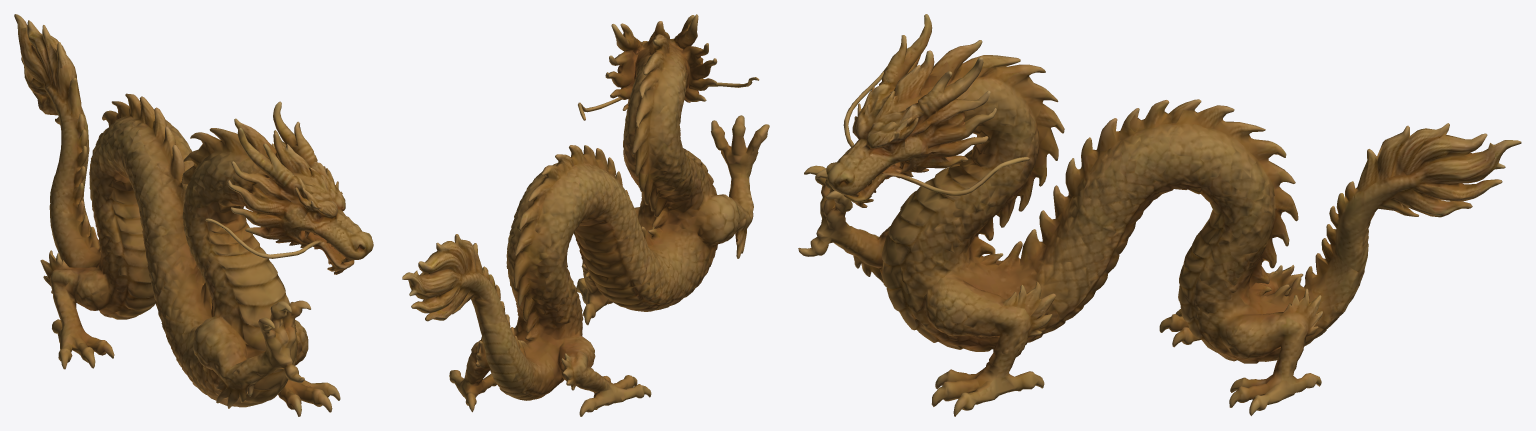
The model's file is dragon.glb.
The picture shows the model from 3 angles, left to right: view 1: azimuth 30°, elevation 25°; view 2: azimuth 150°, elevation 25°; view 3: azimuth 270°, elevation 25°; orthographic projection. The views are drawn at different scales.
Visible parts, largest first — view 1: tripo_node_55a487ac-386f-4654-98ce-5c9de5eefe46; view 2: tripo_node_55a487ac-386f-4654-98ce-5c9de5eefe46; view 3: tripo_node_55a487ac-386f-4654-98ce-5c9de5eefe46.
Part boxes in pixels (left/top/right/bottom): tripo_node_55a487ac-386f-4654-98ce-5c9de5eefe46: left=14, top=14, right=373, bottom=416; tripo_node_55a487ac-386f-4654-98ce-5c9de5eefe46: left=402, top=14, right=769, bottom=416; tripo_node_55a487ac-386f-4654-98ce-5c9de5eefe46: left=798, top=14, right=1521, bottom=416.
Size of the model in its own units: 0.3188 by 0.5228 by 0.9994.
Materials: 1 (1 with a texture image).
